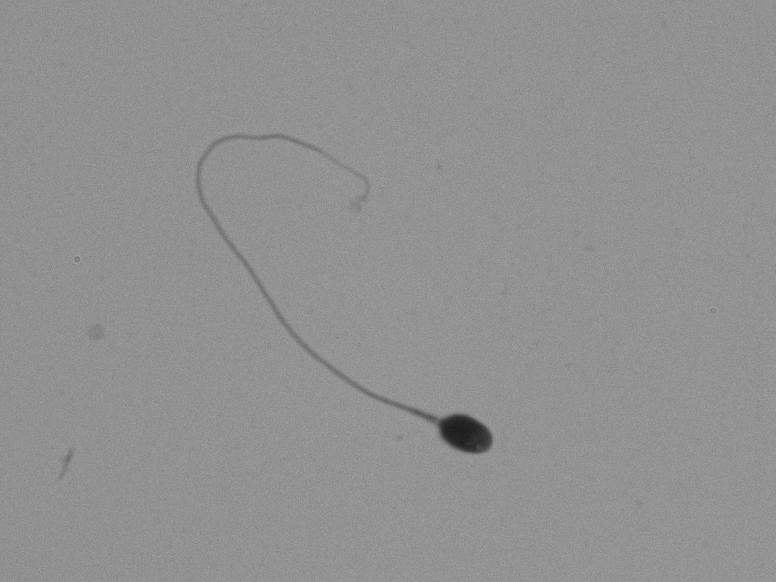Normal: (169, 111, 523, 481)
